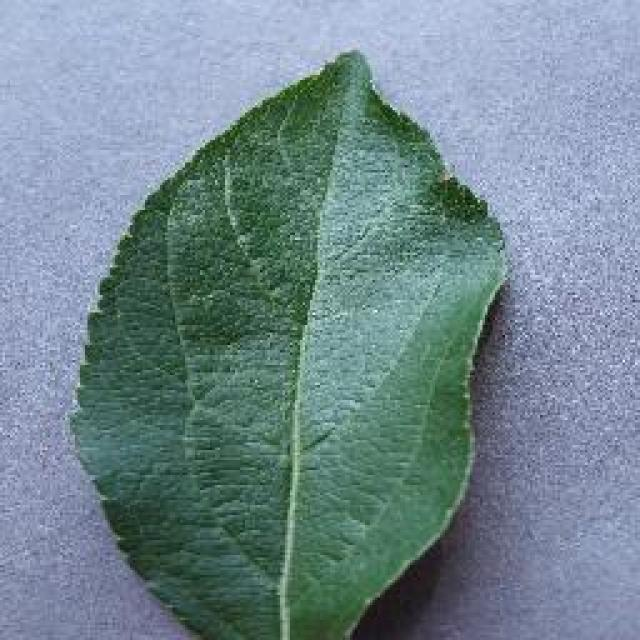apple healthy: (62, 45, 510, 637)
